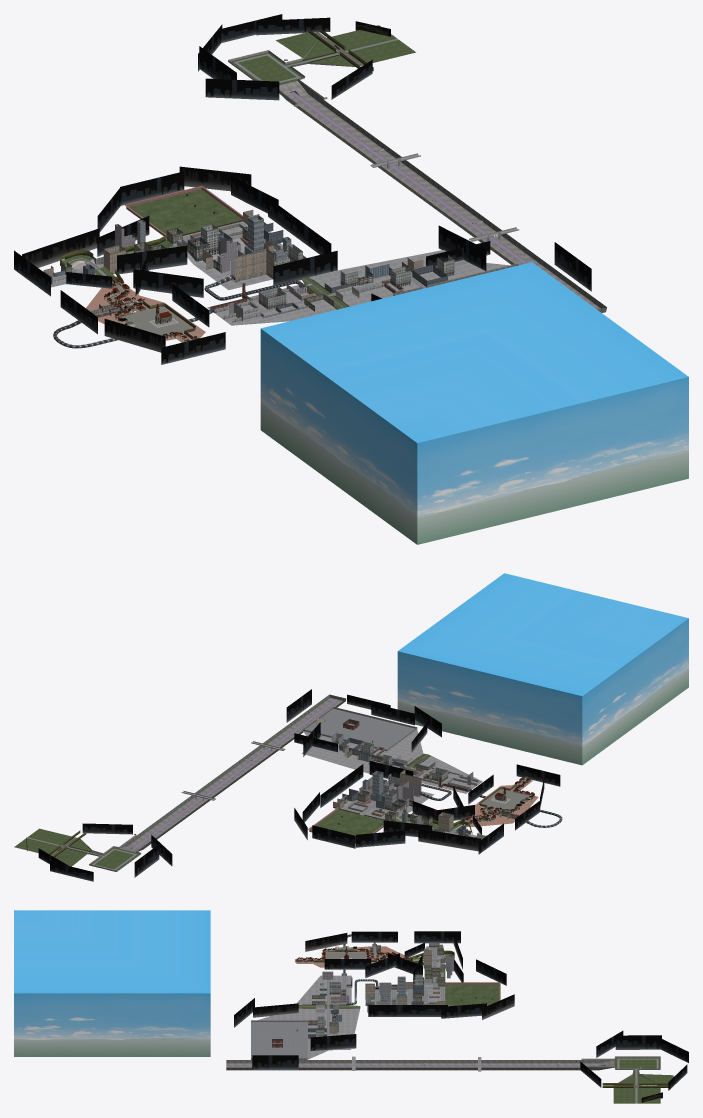
The model's file is world.glb.
The picture shows the model from 3 angles, top to bottom: view 1: azimuth 30°, elevation 25°; view 2: azimuth 150°, elevation 25°; view 3: azimuth 270°, elevation 25°; orthographic projection. The views are drawn at different scales.
Parts seen in each view (by area): view 1: cielo, GraficaStradaCanaleZona13, MarciapiedeZona11, SterratoZona14, SterratoZona15, SkyLine22, AcquaCanaleZona13, SkyLine09, SkyLine27, SkyLine_10, SkyLine10, SkyLine06 (+11 smaller); view 2: cielo, GraficaStradaCanaleZona13, GraficaParcheggioZona12, MarciapiedeZona11, SterratoZona14, SterratoZona15, AcquaCanaleZona13, SkyLine10, SkyLine08, SkyLine06, SkyLine18, SkyLine12 (+4 smaller); view 3: cielo, GraficaStradaCanaleZona13, MarciapiedeZona11, GraficaParcheggioZona12, SterratoZona14, SterratoZona15, SkyLine18, SkyLine05, SkyLine21, SkyLine19, AcquaCanaleZona13, SkyLine26 (+10 smaller).
Part boxes in pixels (x1,y1,x2,y2): cielo: (260, 262, 688, 544); GraficaStradaCanaleZona13: (279, 80, 606, 312); MarciapiedeZona11: (224, 250, 509, 325); SterratoZona14: (230, 25, 415, 84); SterratoZona15: (129, 189, 242, 234); SkyLine22: (205, 78, 279, 100); AcquaCanaleZona13: (290, 92, 527, 264); SkyLine09: (117, 245, 187, 274); SkyLine27: (273, 250, 337, 285); SkyLine_10: (133, 269, 203, 297); SkyLine10: (22, 228, 99, 267); SkyLine06: (120, 171, 184, 205); cielo: (397, 573, 688, 765); GraficaStradaCanaleZona13: (119, 694, 346, 852); GraficaParcheggioZona12: (305, 708, 414, 749); MarciapiedeZona11: (301, 729, 482, 785); SterratoZona14: (14, 828, 139, 870); SterratoZona15: (311, 809, 383, 840); AcquaCanaleZona13: (131, 699, 339, 849); SkyLine10: (418, 828, 480, 851); SkyLine08: (356, 830, 405, 847); SkyLine06: (312, 825, 355, 848); SkyLine18: (320, 764, 363, 807); SkyLine12: (516, 764, 560, 786); cielo: (14, 910, 210, 1056); GraficaStradaCanaleZona13: (226, 1060, 614, 1070); MarciapiedeZona11: (258, 975, 359, 1059); GraficaParcheggioZona12: (251, 1022, 307, 1058); SterratoZona14: (613, 1057, 660, 1103); SterratoZona15: (445, 984, 499, 1005); SkyLine18: (368, 1005, 447, 1016); SkyLine05: (252, 1055, 298, 1069); SkyLine21: (615, 1035, 661, 1049); SkyLine19: (310, 1034, 356, 1050); AcquaCanaleZona13: (226, 1066, 605, 1067); SkyLine26: (414, 931, 460, 943).
Size of the model in its own units: 193 by 33.36 by 320.
111 materials, 107 textured.
